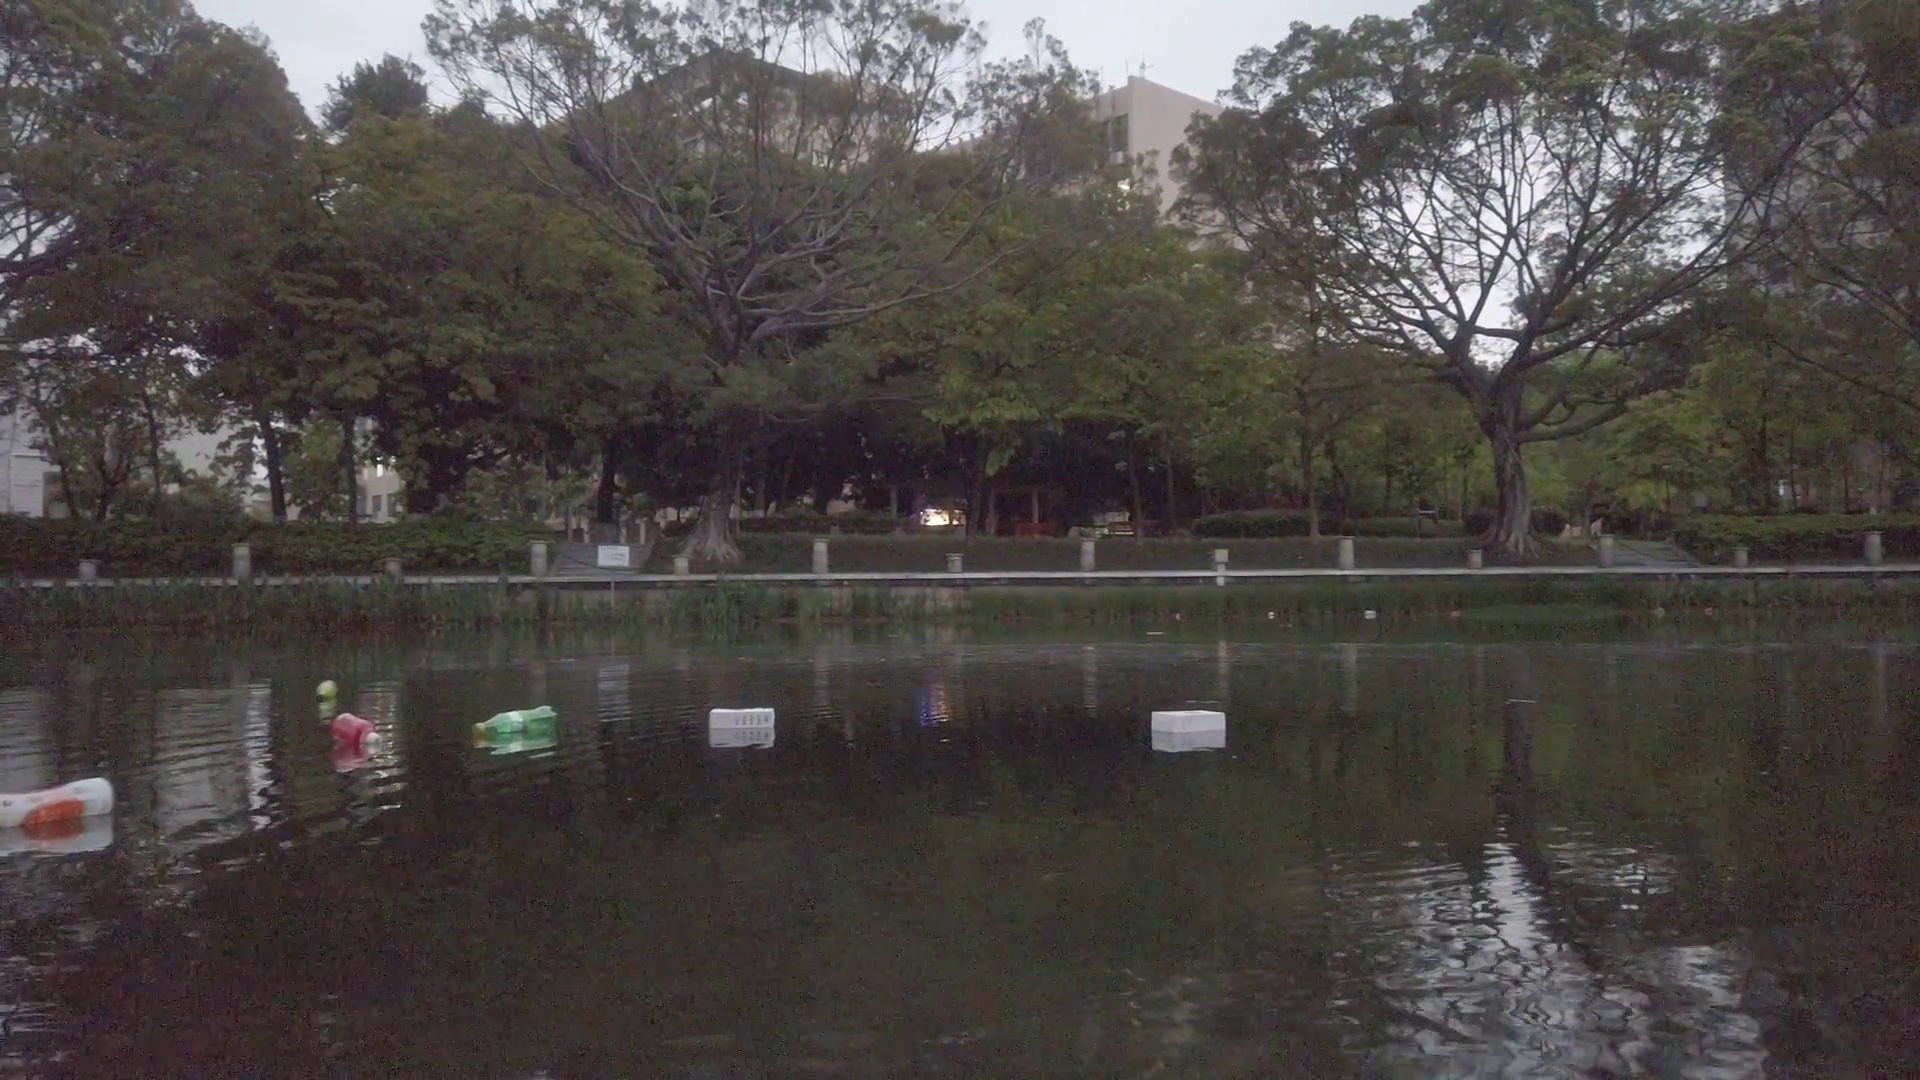bottle: (3, 775, 115, 819), (475, 705, 554, 736), (334, 713, 382, 752), (316, 676, 338, 705)
carton: (1151, 709, 1226, 737), (705, 707, 775, 731), (1365, 607, 1379, 616)
